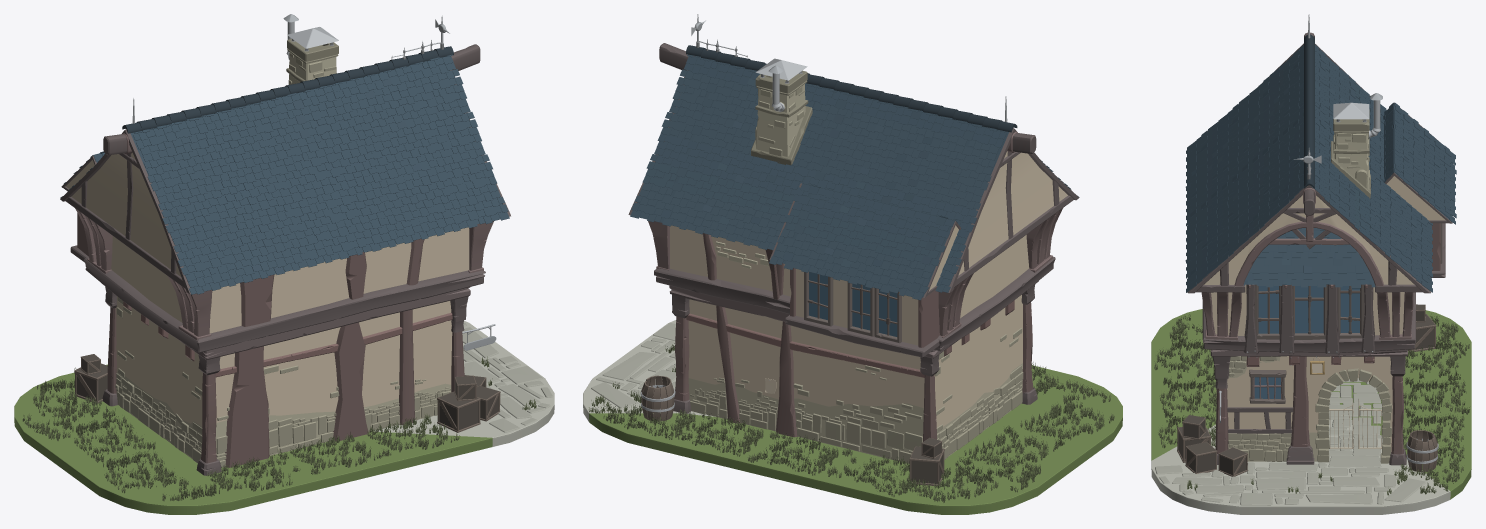
Rendered from forsketchfab.fbx.
3 views of the same model, side by side, from view 1: azimuth 30°, elevation 25°; view 2: azimuth 150°, elevation 25°; view 3: azimuth 270°, elevation 25° (orthographic). The views are drawn at different scales.
Parts seen in each view (by area): view 1: roof_tile_1, base, base_under, column, grass1, rocks_walls_down, holder_base_1, boxes, rocks_down, holders_3, roofs_rocks_up, column_up1 (+10 smaller); view 2: base (×2), roof_tile_, base_under, roof_tile_2, grass1, rocks_walls_down, column, holder_base_1, holders_3, roofs_rocks_up, rocks_down, column_up1 (+16 smaller); view 3: base_under, roof_tile_1, base (×2), rocks_down, roof_tile_, grass1, roof_tile_3, roof_tile_2, columns_up, boxes, column, holders_3 (+26 smaller).
Part boxes in pixels (box(x1,y1,x2,y2)): roof_tile_1: box(133, 54, 509, 294); base: box(71, 63, 502, 467); base_under: box(14, 321, 554, 514); column: box(107, 307, 464, 467); grass1: box(22, 356, 536, 501); rocks_walls_down: box(115, 297, 450, 466); holder_base_1: box(84, 257, 485, 352); boxes: box(74, 354, 500, 432); rocks_down: box(462, 323, 553, 432); holders_3: box(75, 208, 493, 340); roofs_rocks_up: box(122, 46, 453, 133); column_up1: box(77, 213, 424, 326); base (×2): box(637, 57, 1067, 461); roof_tile_: box(630, 54, 1006, 292); base_under: box(583, 320, 1122, 514); roof_tile_2: box(769, 184, 954, 300); grass1: box(589, 343, 1114, 502); rocks_walls_down: box(690, 328, 1023, 463); column: box(674, 302, 1033, 441); holder_base_1: box(654, 256, 1055, 351); holders_3: box(648, 208, 1062, 338); roofs_rocks_up: box(686, 45, 1017, 132); rocks_down: box(591, 323, 676, 408); column_up1: box(702, 233, 939, 347); base_under: box(1151, 309, 1471, 514); roof_tile_1: box(1185, 45, 1303, 292); base (×2): box(1188, 49, 1452, 461); rocks_down: box(1155, 378, 1426, 505); roof_tile_: box(1311, 44, 1432, 292); grass1: box(1154, 314, 1469, 495); roof_tile_3: box(1243, 228, 1375, 288); roof_tile_2: box(1394, 103, 1456, 224); columns_up: box(1243, 284, 1375, 354); boxes: box(1177, 304, 1436, 476); column: box(1215, 356, 1403, 454); holders_3: box(1201, 292, 1413, 340).
Bounding box in the file's own units: 17.67 × 13.79 × 11.78.
